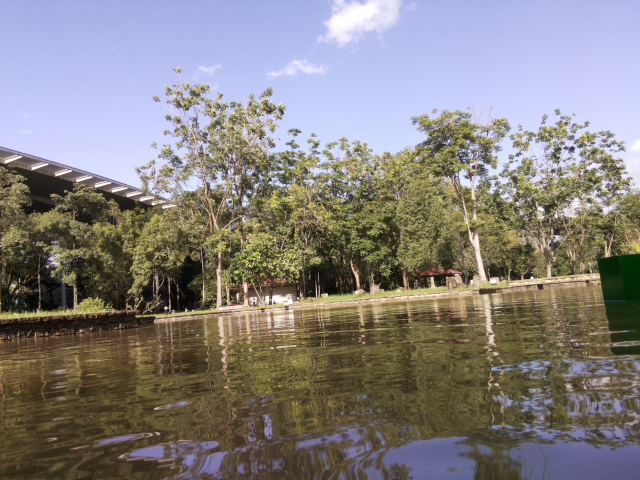obstacle: (595, 250, 640, 301)
